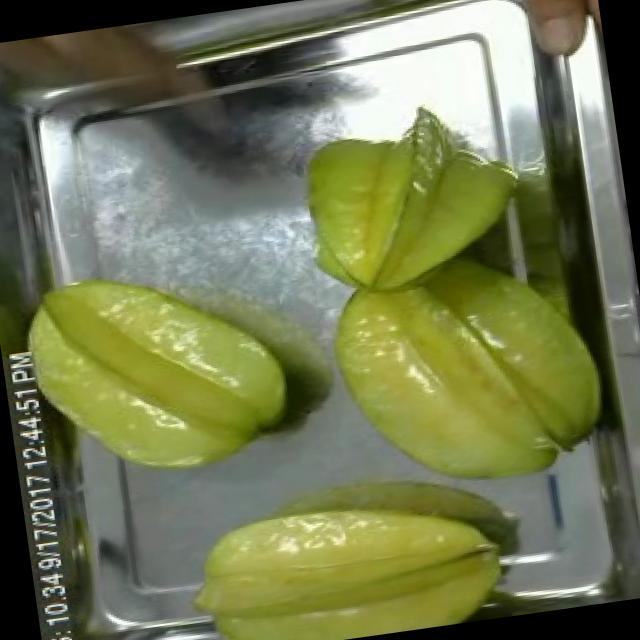fruit: (306, 218, 628, 520), (6, 239, 314, 507), (171, 460, 521, 640), (279, 86, 543, 318), (504, 0, 601, 70)
